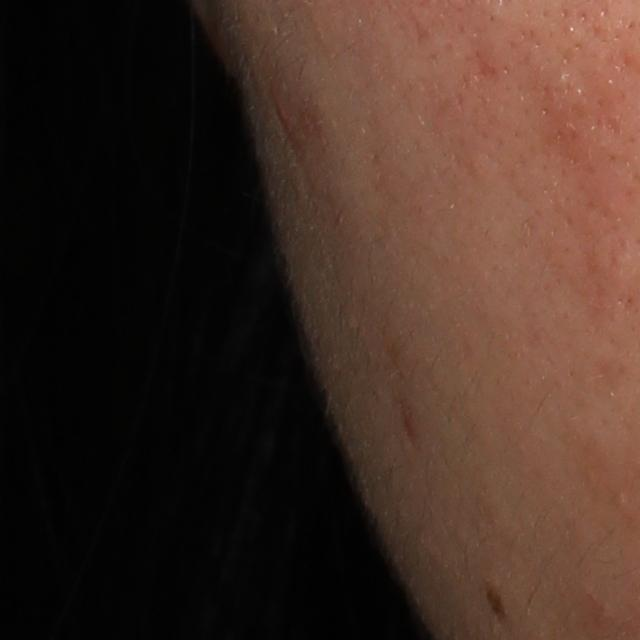nevus: (484, 581, 502, 623)
papule: (275, 100, 292, 125)
